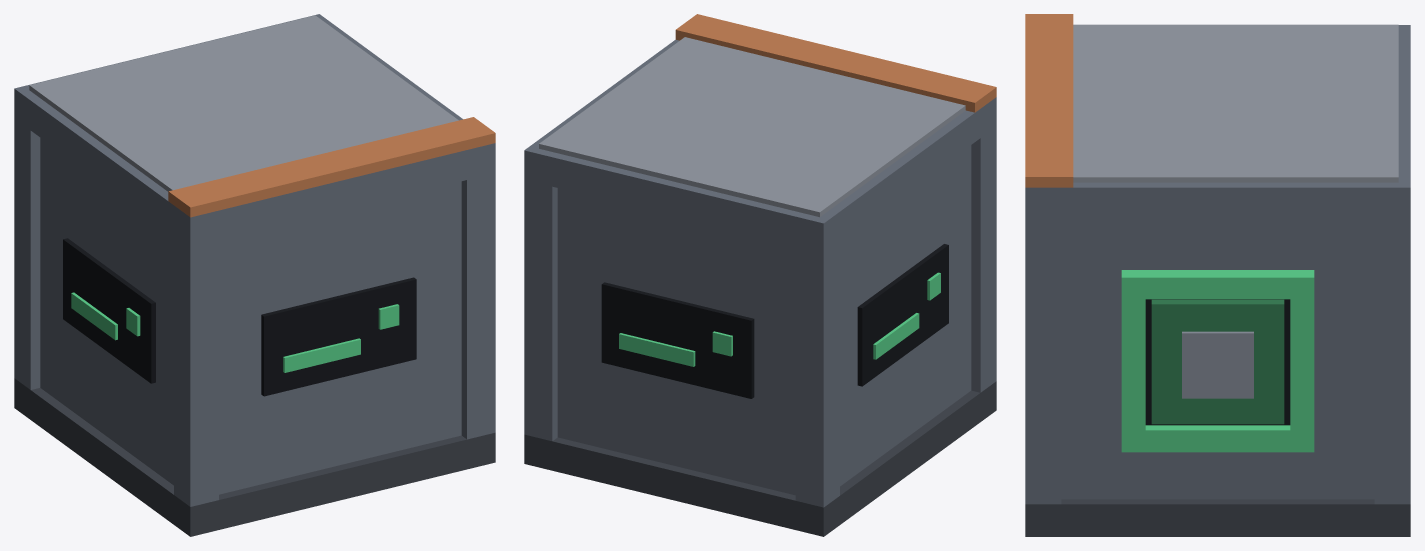
Rendered from placer.glb.
3 renders of one model, left to right at view 1: azimuth 30°, elevation 25°; view 2: azimuth 150°, elevation 25°; view 3: azimuth 270°, elevation 25°, orthographic. The views are drawn at different scales.
Visible parts, largest first — view 1: body.015, tier.007; view 2: body.015, tier.007; view 3: body.015, piston, tier.007.
Boxes of the visible parts, <box> form: body.015: <box>14,14,495,536</box>; tier.007: <box>168,117,495,217</box>; body.015: <box>524,37,996,536</box>; tier.007: <box>675,14,996,112</box>; body.015: <box>1025,24,1410,536</box>; piston: <box>1151,299,1284,424</box>; tier.007: <box>1025,14,1073,187</box>.
Bounding box in the file's own units: 1.02 × 1.03 × 1.
